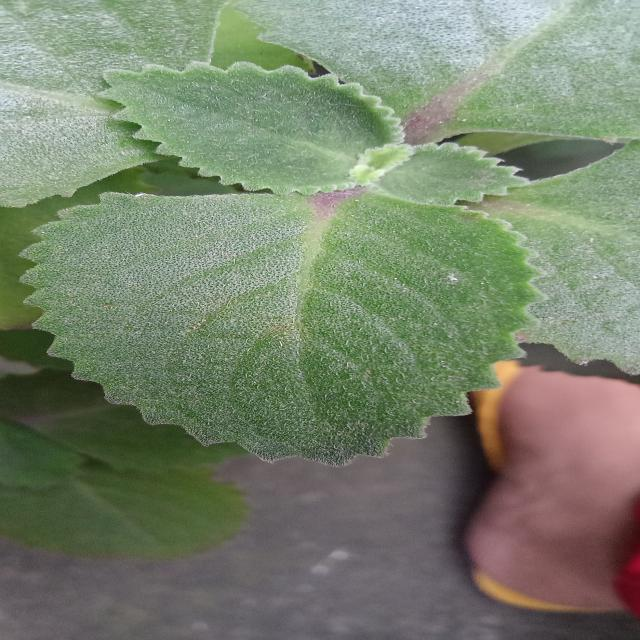Oregano: (15, 60, 561, 477)
